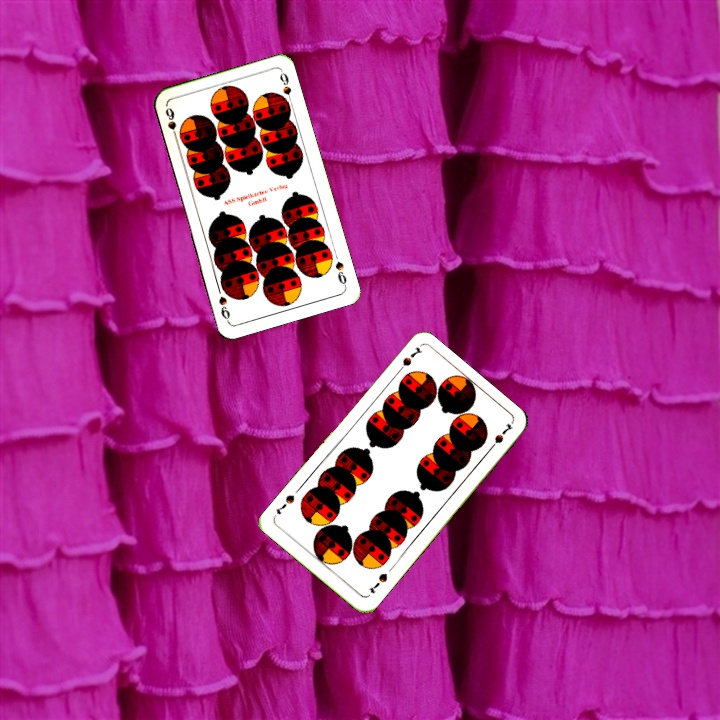S7: (392, 343, 424, 377), (365, 569, 390, 596)
S9: (161, 103, 180, 143), (331, 257, 349, 289)
